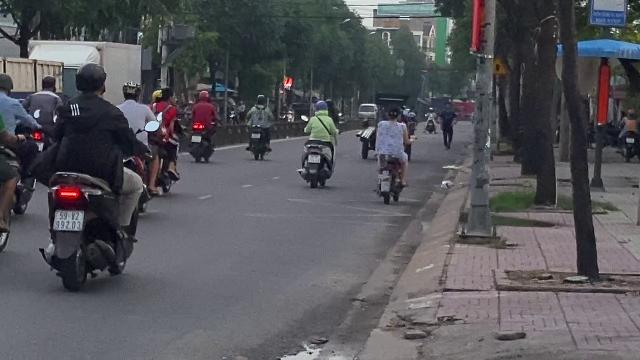helmet: (72, 62, 108, 98), (120, 77, 140, 101), (0, 73, 12, 93)
licenseplate: (54, 210, 82, 230)
motorcyclist: (32, 59, 150, 292), (0, 46, 28, 292)
